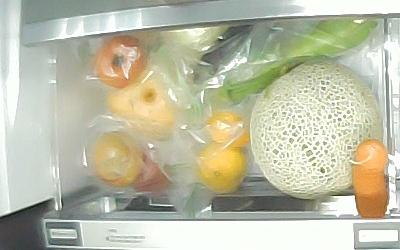carrot: (351, 138, 390, 219)
eggplant_vinyl: (193, 24, 256, 93)
melon: (250, 59, 386, 202)
pear_vinyl: (106, 73, 175, 133)
prune_vinyl: (90, 132, 144, 187), (131, 149, 169, 194)
tangerine_vinyl: (194, 141, 246, 194), (207, 112, 249, 146)
tomato_vinyl: (93, 36, 149, 89)
zucchini_vinyl: (212, 19, 379, 106)
